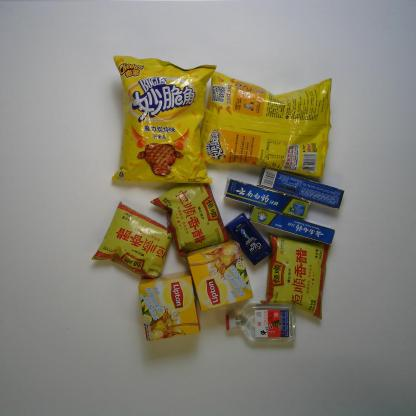Alcohol: (223, 302, 297, 343)
Instant Drink: (185, 239, 255, 313), (138, 270, 201, 343)
Personal Hygiene: (255, 162, 347, 212), (221, 176, 313, 224), (247, 204, 337, 246), (223, 211, 274, 267)
Puffed Food: (197, 70, 333, 180), (110, 54, 220, 185)
Seasoner: (89, 199, 175, 281), (258, 230, 333, 323), (149, 180, 230, 261)
